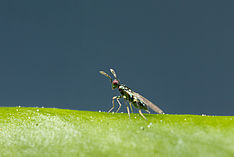Trifoli: (90, 63, 172, 125)
